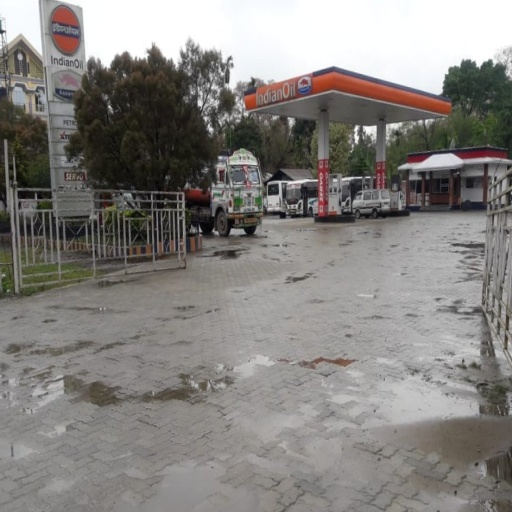roof: (241, 63, 452, 125)
